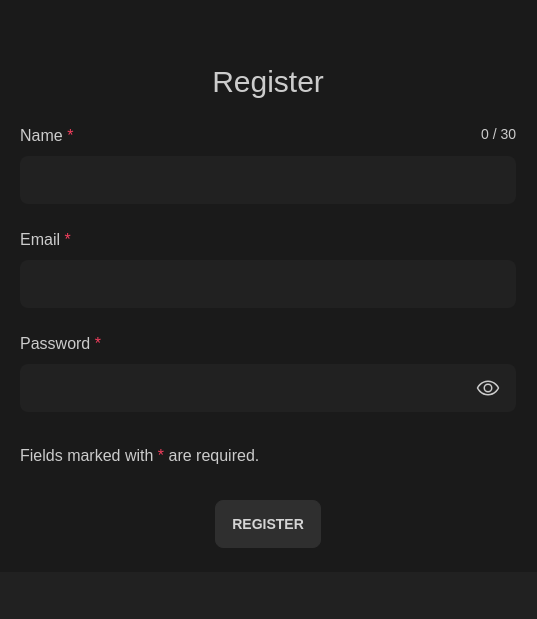
Test case: Register › errors display when fields are submitted with no values
This screenshot has width=537, height=619.
Click the button "register" at (268, 524), box 215,500 -> 321,548
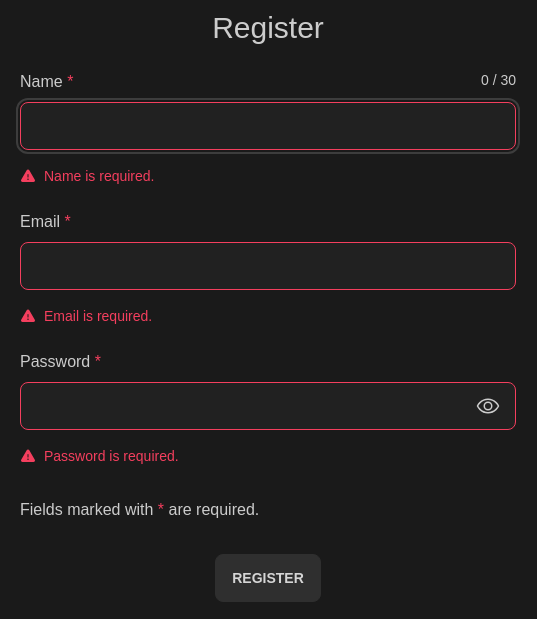
Expected: the number of messages is 3, 20,168 -> 154,184; 20,308 -> 152,324; 20,448 -> 179,464
